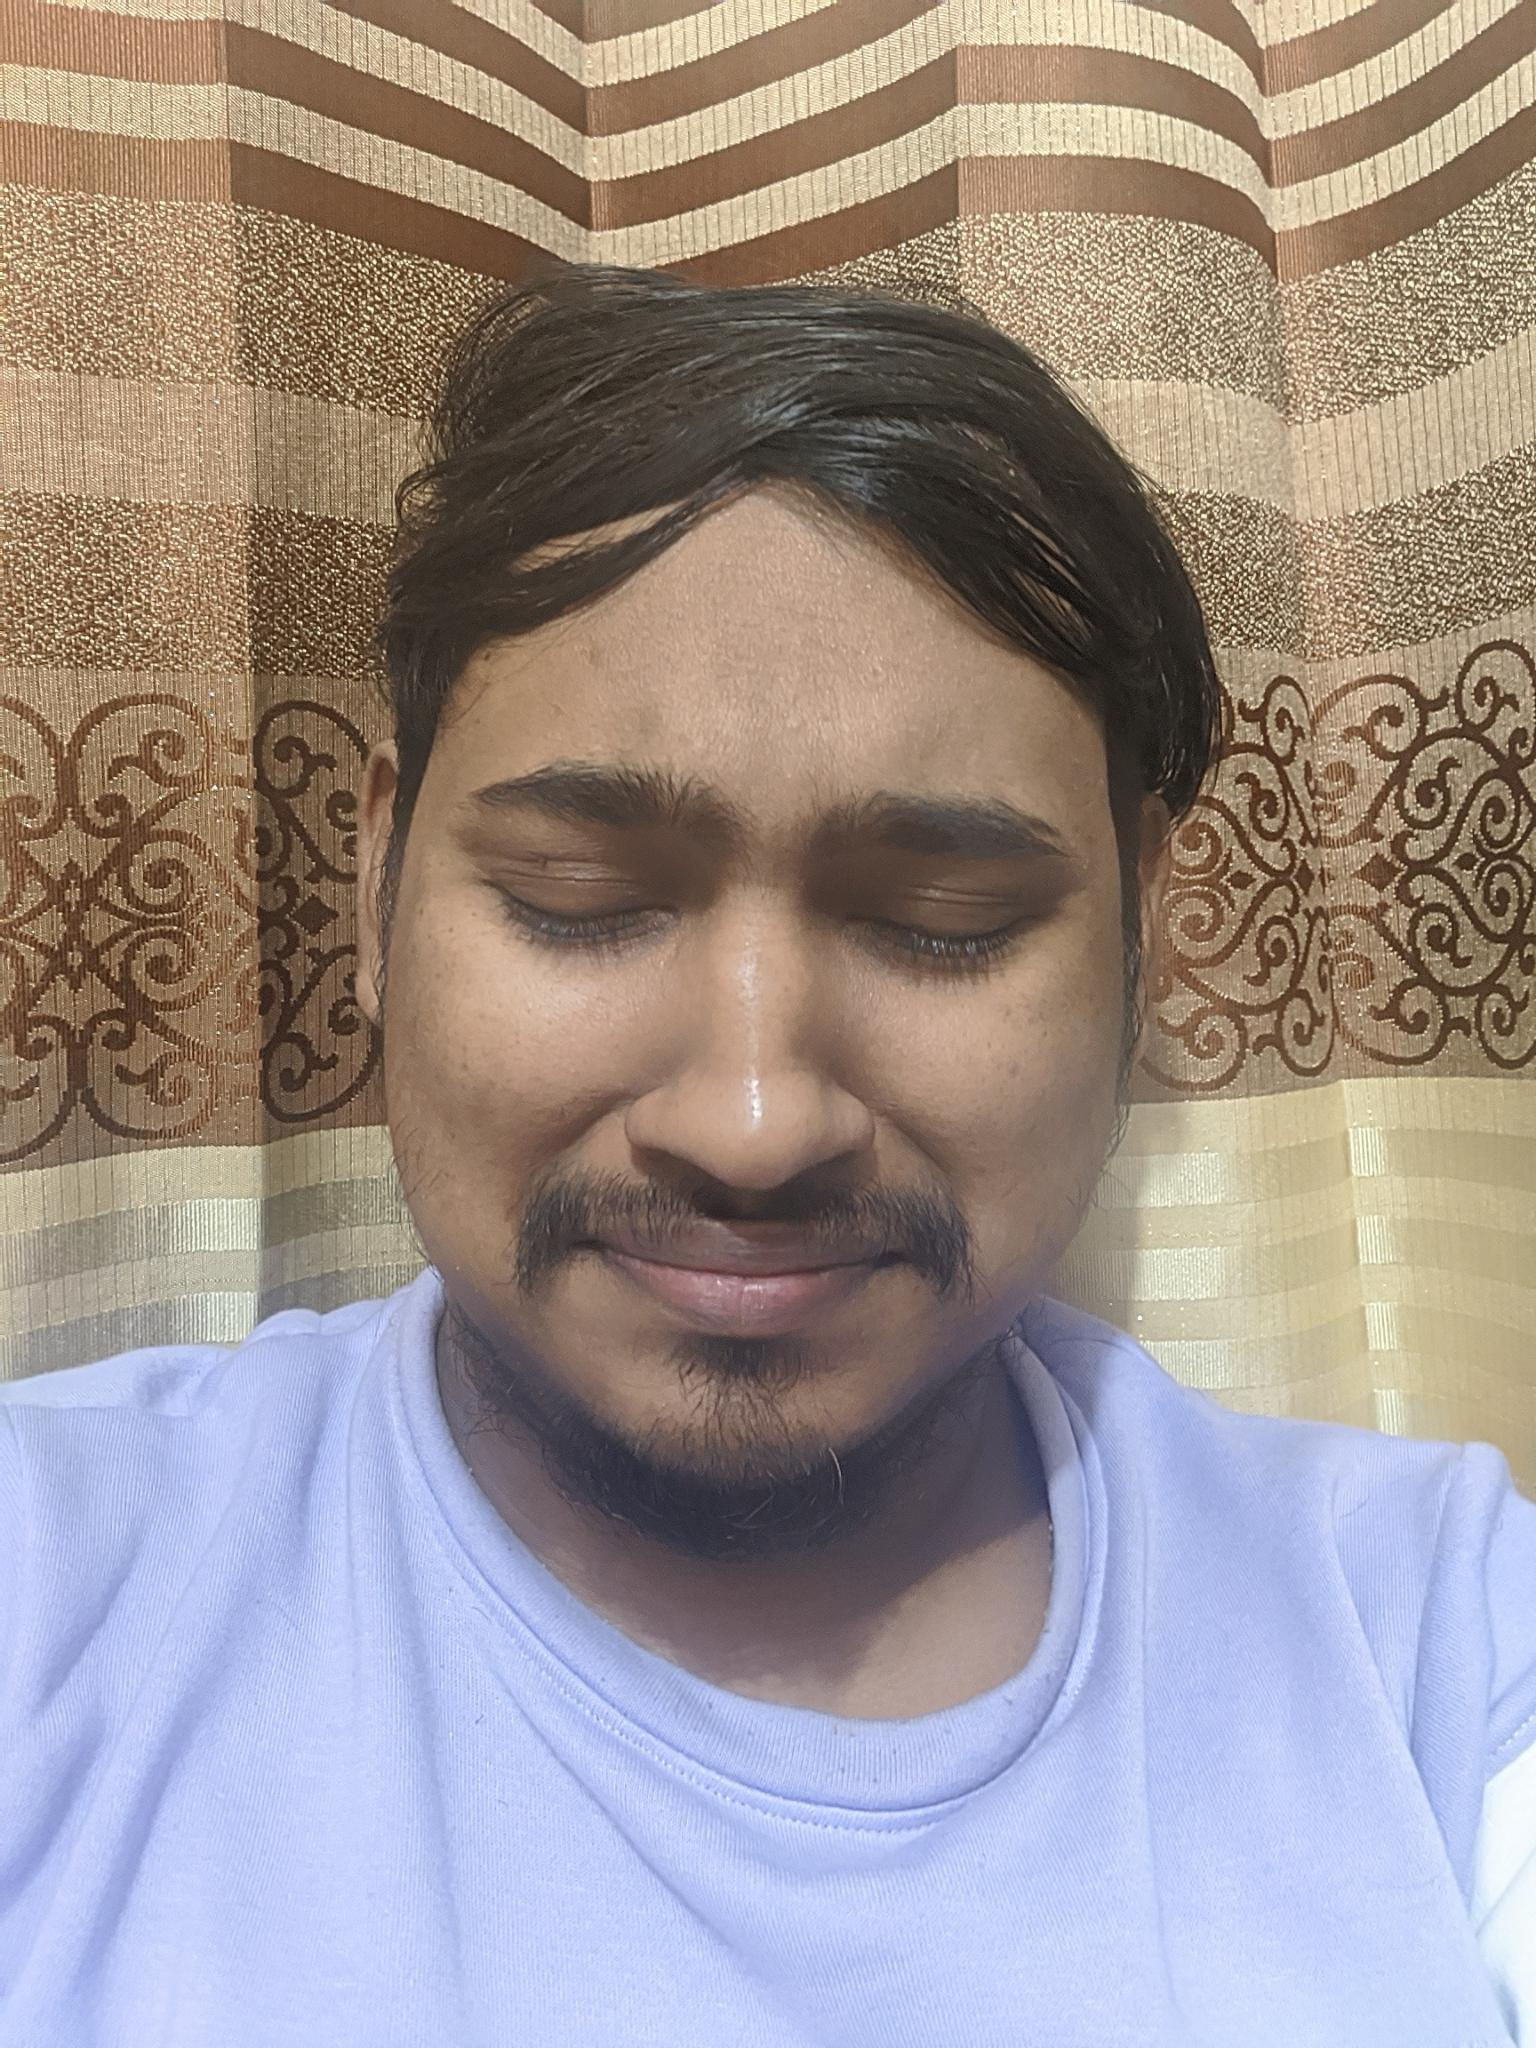Sad: (423, 597, 1131, 1485)
